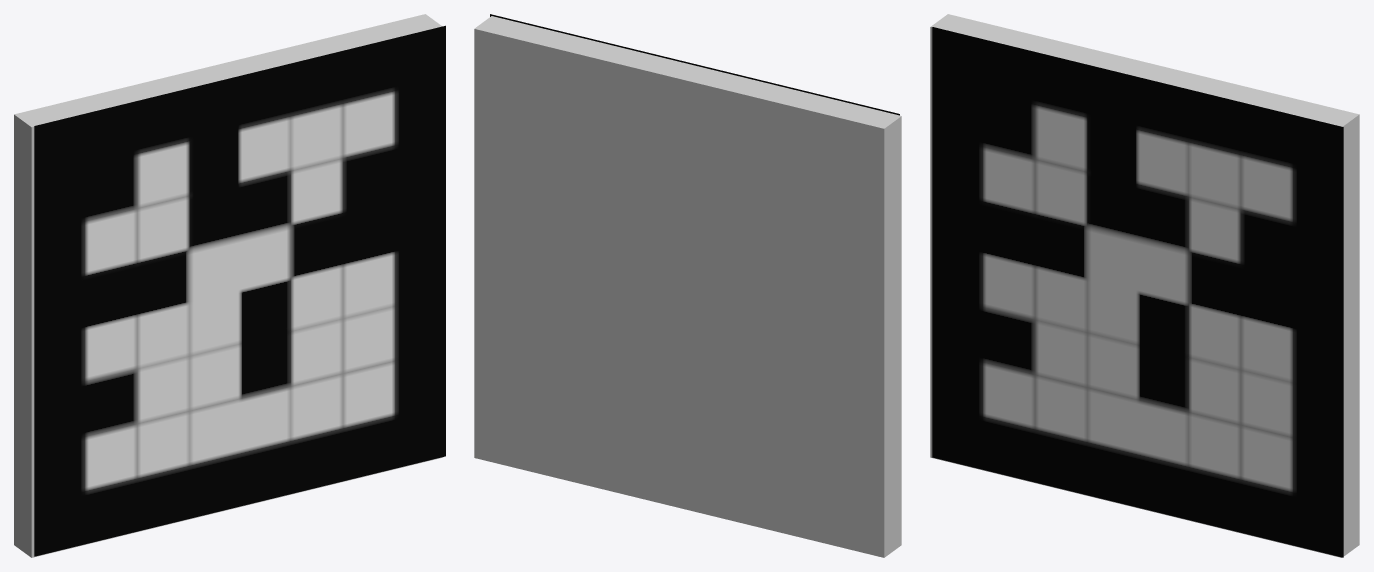
Rendered from caixa.dae.
The picture shows the model from 3 angles, left to right: view 1: azimuth 30°, elevation 25°; view 2: azimuth 150°, elevation 25°; view 3: azimuth 330°, elevation 25°; orthographic projection.
Visible parts, largest first — view 1: caixa, Cube; view 2: Cube, caixa; view 3: caixa, Cube.
Boxes of the visible parts, <box> form: caixa: <box>34,25,445,556</box>; Cube: <box>14,14,443,557</box>; Cube: <box>474,16,901,557</box>; caixa: <box>490,14,899,115</box>; caixa: <box>932,27,1343,557</box>; Cube: <box>930,14,1359,557</box>.
Size of the model in its own units: 0.2715 by 0.0206 by 0.2707.
2 materials, 1 textured.
